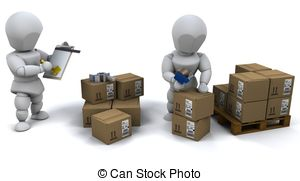box: (78, 69, 150, 143), (226, 60, 298, 116)
pallet: (79, 65, 146, 153)
